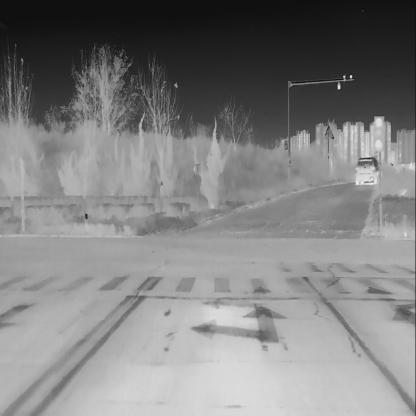car: (354, 155, 380, 186)
